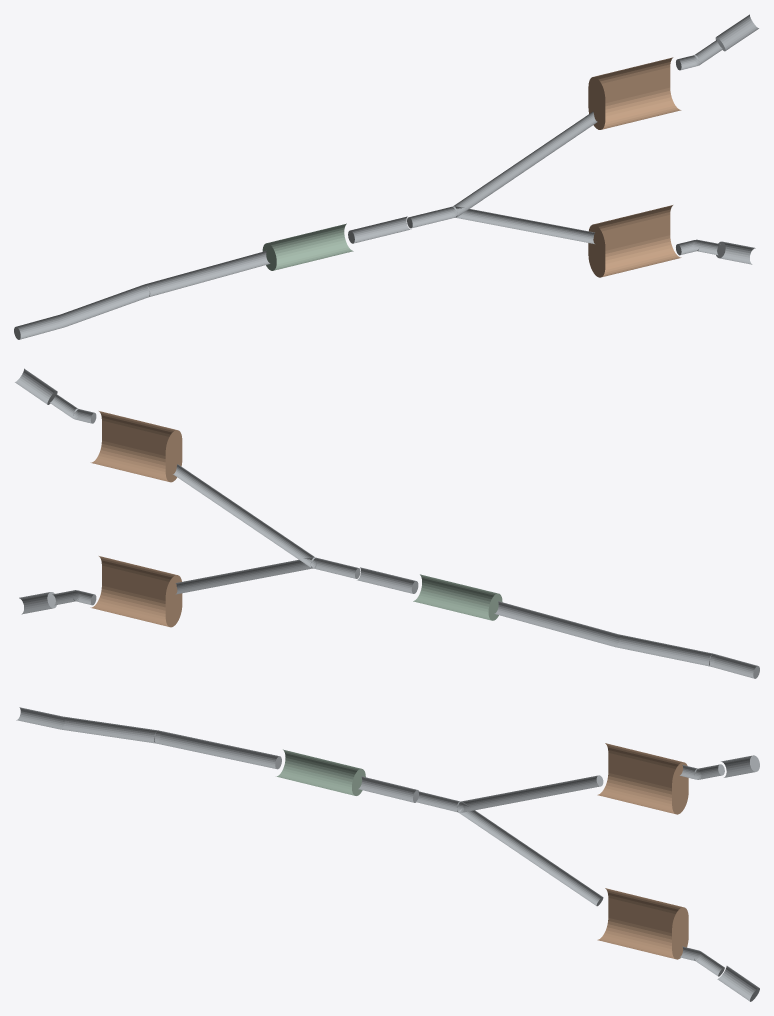
File: astra_h_dual_exhaust.glb
3 renders of one model, top to bottom at view 1: azimuth 30°, elevation 25°; view 2: azimuth 150°, elevation 25°; view 3: azimuth 330°, elevation 25°, orthographic.
Parts seen in each view (by area): view 1: 05_box_L, 05_box_R, 01_front, 04_leg_L, 02_resonator, 04_leg_R, 03_mid, 07_tip_L, 07_tip_R, 06_tail_L; view 2: 05_box_L, 05_box_R, 01_front, 04_leg_L, 02_resonator, 04_leg_R, 03_mid, 07_tip_L, 07_tip_R, 06_tail_L; view 3: 05_box_R, 05_box_L, 01_front, 02_resonator, 04_leg_L, 04_leg_R, 03_mid, 07_tip_R, 07_tip_L, 06_tail_R, 06_tail_L.
Boxes of the visible parts, <box> form: 05_box_L: <box>588,57,681,129</box>; 05_box_R: <box>588,205,681,277</box>; 01_front: <box>14,250,270,339</box>; 04_leg_L: <box>407,111,597,228</box>; 02_resonator: <box>262,223,353,270</box>; 04_leg_R: <box>439,206,594,243</box>; 03_mid: <box>348,216,411,243</box>; 07_tip_L: <box>715,14,758,51</box>; 07_tip_R: <box>716,241,755,264</box>; 06_tail_L: <box>676,40,722,70</box>; 05_box_L: <box>90,411,182,482</box>; 05_box_R: <box>90,556,182,627</box>; 01_front: <box>494,601,759,678</box>; 04_leg_L: <box>173,464,360,578</box>; 02_resonator: <box>413,574,502,620</box>; 04_leg_R: <box>175,557,328,594</box>; 03_mid: <box>357,567,418,593</box>; 07_tip_L: <box>15,368,57,404</box>; 07_tip_R: <box>19,592,56,614</box>; 06_tail_L: <box>50,394,96,423</box>; 05_box_R: <box>597,888,688,959</box>; 05_box_L: <box>597,743,688,814</box>; 01_front: <box>16,707,281,769</box>; 02_resonator: <box>276,749,365,795</box>; 04_leg_L: <box>416,775,603,812</box>; 04_leg_R: <box>447,799,603,906</box>; 03_mid: <box>358,776,418,802</box>; 07_tip_R: <box>717,966,759,1001</box>; 07_tip_L: <box>721,755,759,777</box>; 06_tail_R: <box>680,946,724,976</box>; 06_tail_L: <box>680,764,724,779</box>.
Bounding box in the file's own units: 3836 × 1225 × 165.
